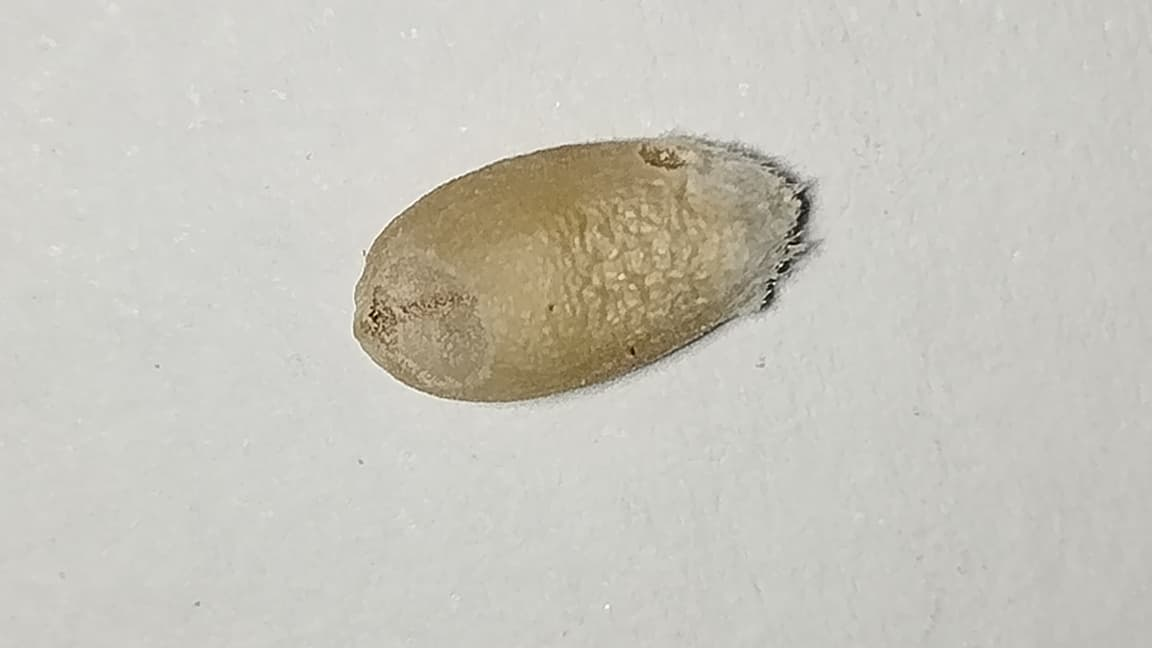damage: (355, 131, 804, 400)
insectdamage: (355, 256, 489, 392), (627, 120, 697, 186)
